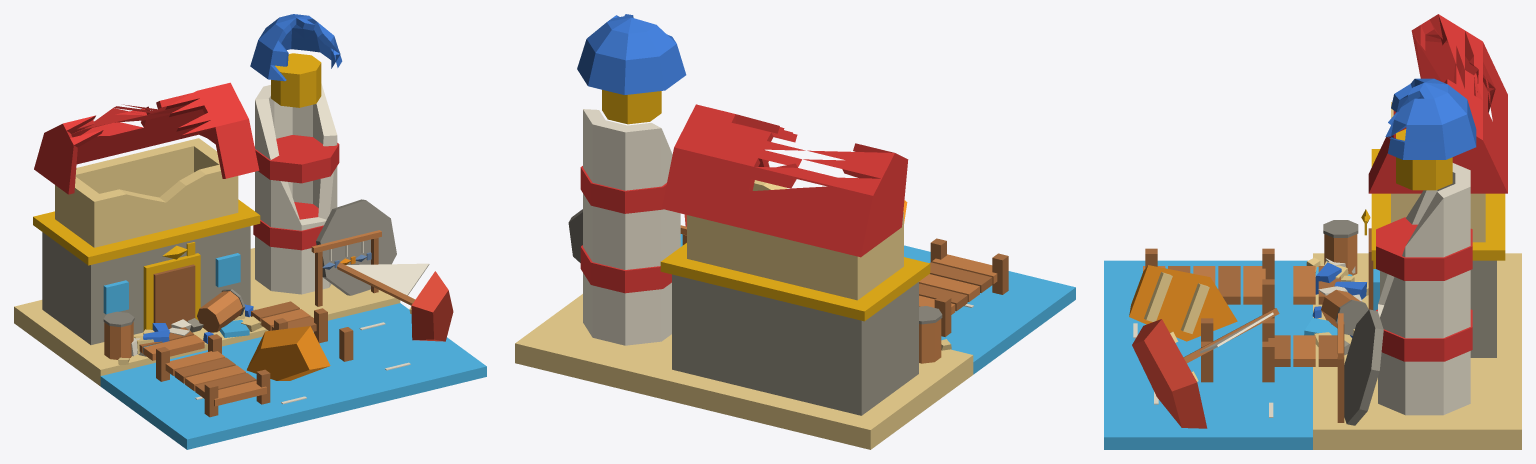
Rendered from fishery_t3_v3_dmg1.glb.
3 views of the same model, side by side, from view 1: azimuth 30°, elevation 25°; view 2: azimuth 150°, elevation 25°; view 3: azimuth 270°, elevation 25° (orthographic). The views are drawn at different scales.
Visible parts, largest first — view 1: fishery_t3_v3_dmg1; view 2: fishery_t3_v3_dmg1; view 3: fishery_t3_v3_dmg1.
Part boxes in pixels (x1=…): fishery_t3_v3_dmg1: x1=14, y1=14, x2=486, y2=449; fishery_t3_v3_dmg1: x1=515, y1=14, x2=1075, y2=449; fishery_t3_v3_dmg1: x1=1104, y1=14, x2=1521, y2=449.
Bounding box in the file's own units: 0.7897 × 0.66 × 0.75.
1 material, 1 textured.
